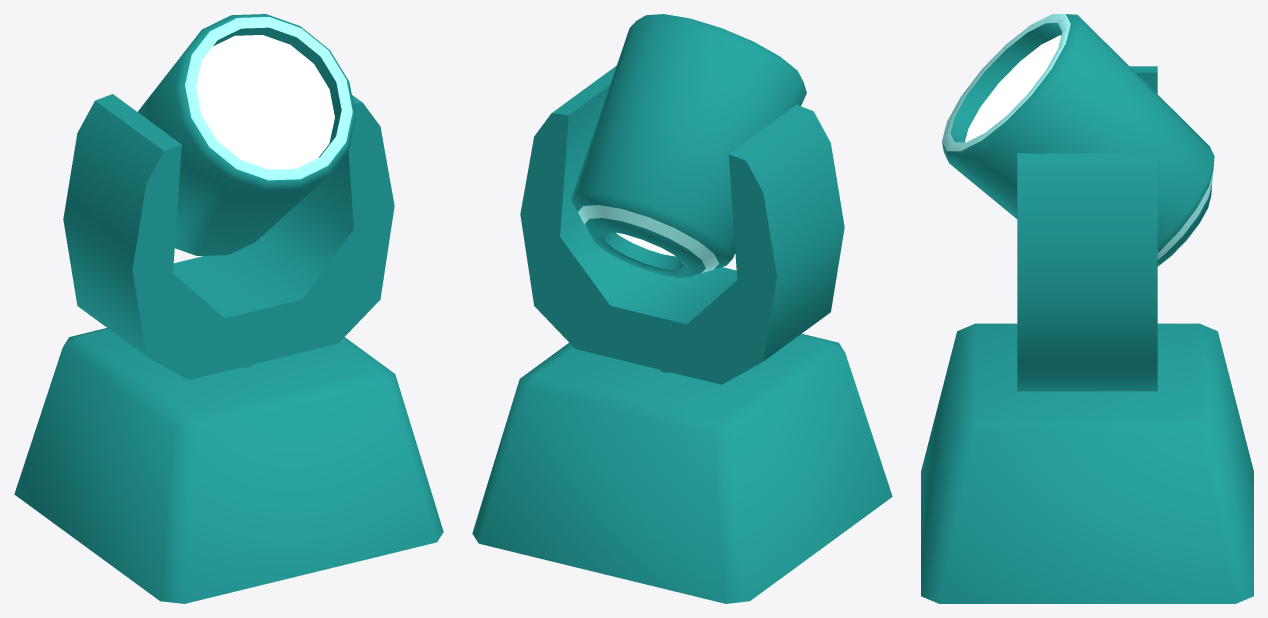
The model's file is spotlight.glb.
3 views of the same model, side by side, from view 1: azimuth 30°, elevation 25°; view 2: azimuth 150°, elevation 25°; view 3: azimuth 270°, elevation 25° (orthographic). The views are drawn at different scales.
Visible parts, largest first — view 1: SpotLight; view 2: SpotLight; view 3: SpotLight.
Part boxes in pixels (bbox=[...]): SpotLight: bbox=[14, 14, 443, 603]; SpotLight: bbox=[472, 14, 892, 603]; SpotLight: bbox=[921, 14, 1253, 603].
Bounding box in the file's own units: 0.3885 × 0.6563 × 0.3885.
Materials: 2 (1 with a texture image).
